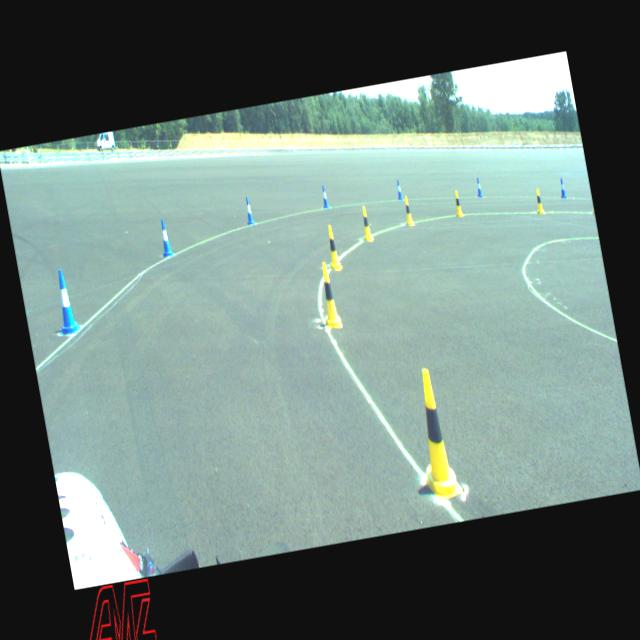blue_cone: (48, 268, 82, 336), (156, 218, 174, 258), (242, 196, 255, 226), (320, 184, 329, 208), (394, 178, 403, 200), (474, 176, 482, 198), (558, 176, 566, 198)
yellow_cone: (404, 366, 464, 502), (315, 260, 342, 329), (322, 223, 342, 270), (358, 205, 374, 241), (402, 195, 414, 226), (532, 187, 544, 214), (452, 190, 463, 217)
